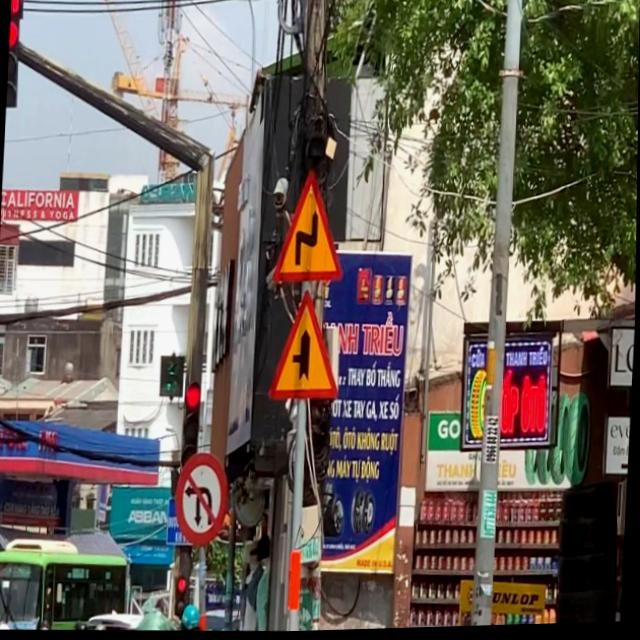Giao nhau voi duong khong uu tien ben trai: (266, 285, 347, 409)
Nhieu cho ngoat lien tiep ben phai: (272, 164, 350, 291)
